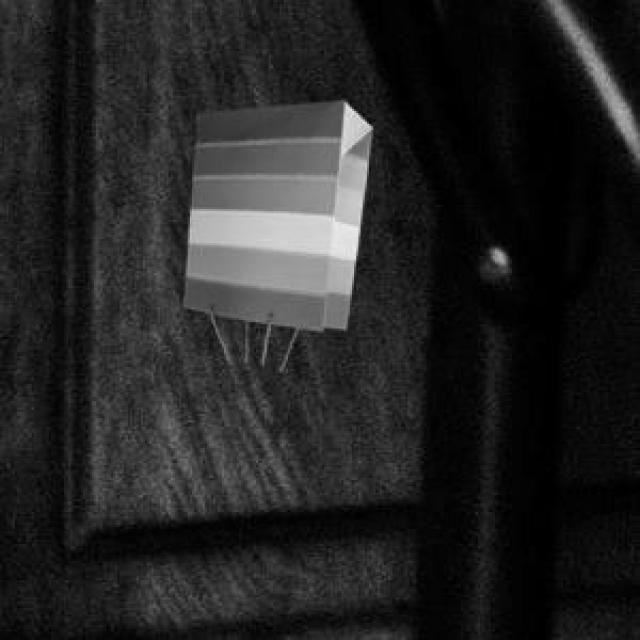paper: (179, 96, 367, 326)
